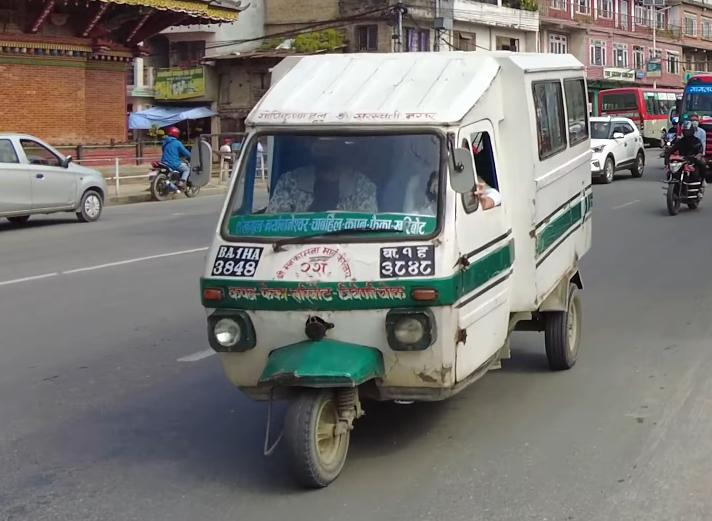bike: (662, 142, 712, 218), (149, 155, 200, 205)
bus: (596, 84, 689, 148)
car: (0, 127, 108, 227), (582, 114, 646, 185)
tempo: (199, 42, 601, 495)
